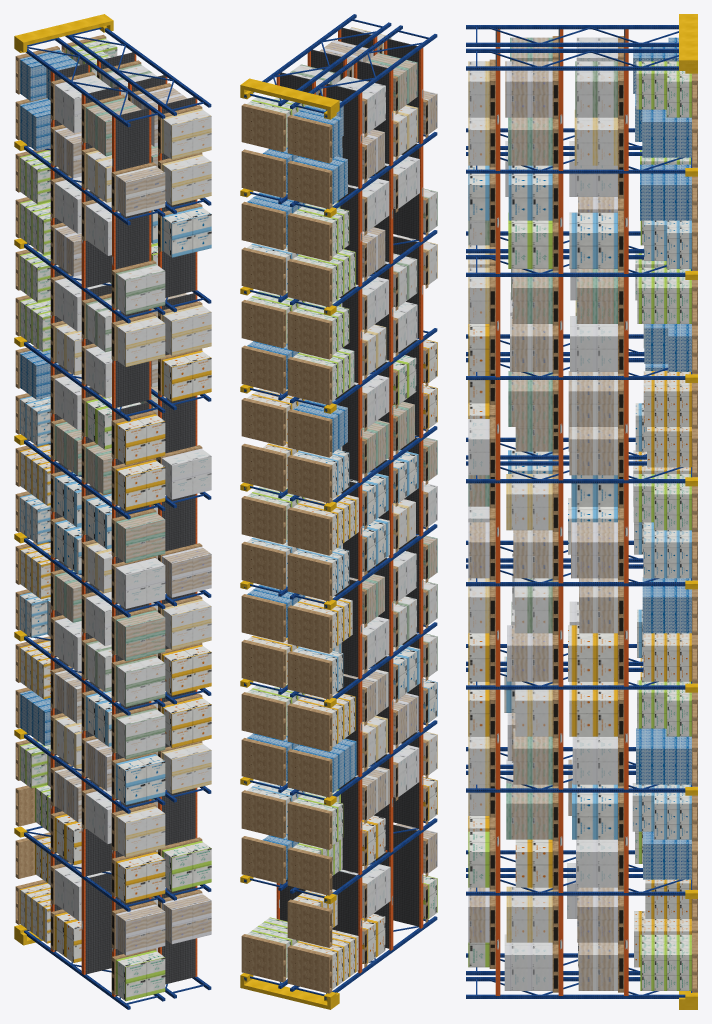
Rendered from racks_e2_s.gltf.
3 views of the same model, side by side, from view 1: azimuth 30°, elevation 25°; view 2: azimuth 150°, elevation 25°; view 3: azimuth 270°, elevation 25° (orthographic). The views are drawn at different scales.
Visible parts, largest first — view 1: racks_e2_s; view 2: racks_e2_s; view 3: racks_e2_s.
Part boxes in pixels (x1,y1,x2,y2): racks_e2_s: [14, 14, 211, 1009]; racks_e2_s: [240, 14, 437, 1009]; racks_e2_s: [466, 14, 697, 1009].
Bounding box in the file's own units: 2.6 × 24.86 × 5.5.
Materials: 18 (18 with a texture image).
